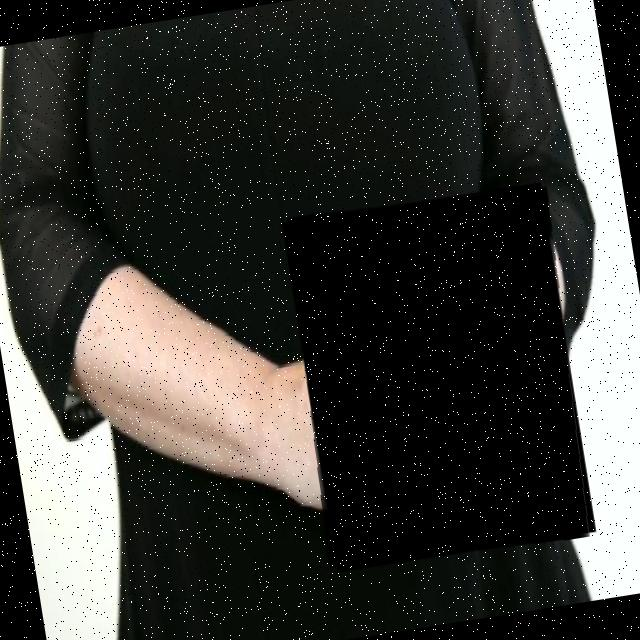V: (280, 181, 601, 577)
